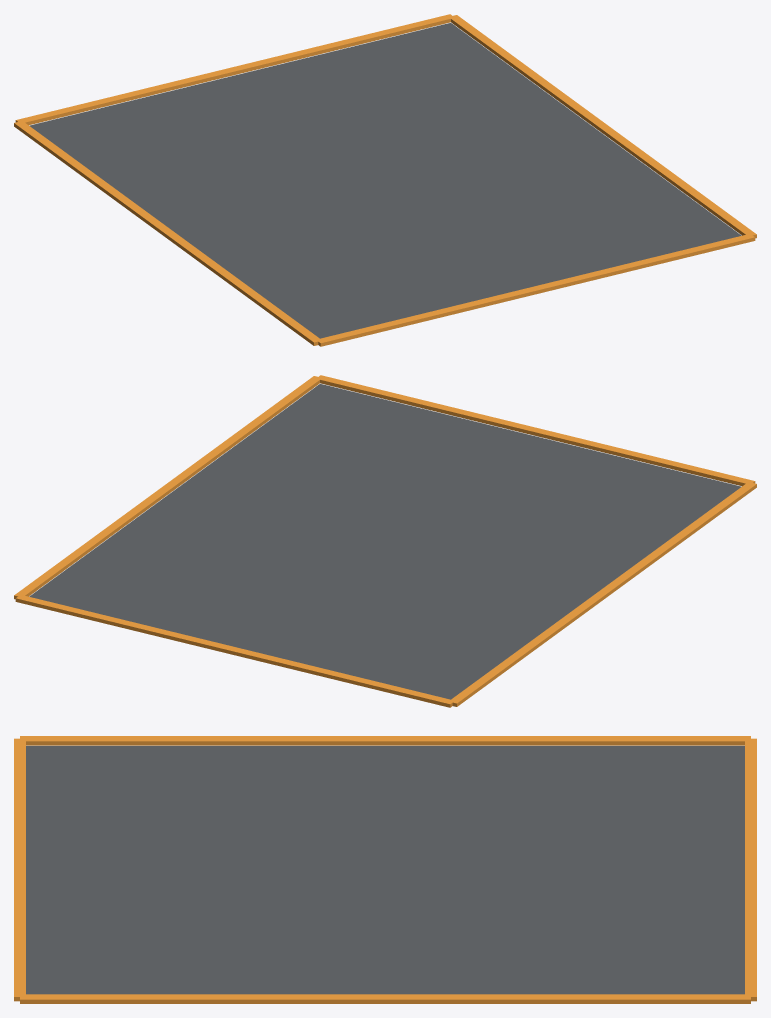
The model's file is SM_PWR1_SolarArray.glb.
The picture shows the model from 3 angles, top to bottom: view 1: azimuth 30°, elevation 25°; view 2: azimuth 150°, elevation 25°; view 3: azimuth 270°, elevation 25°; orthographic projection. The views are drawn at different scales.
Parts seen in each view (by area): view 1: SM_PWR1_SolarArray; view 2: SM_PWR1_SolarArray; view 3: SM_PWR1_SolarArray.
Part boxes in pixels (x1,y1,x2,y2): SM_PWR1_SolarArray: [14, 14, 756, 346]; SM_PWR1_SolarArray: [14, 375, 756, 707]; SM_PWR1_SolarArray: [14, 736, 756, 1003].
Size of the model in its own units: 10.4 by 0.09 by 12.4.
